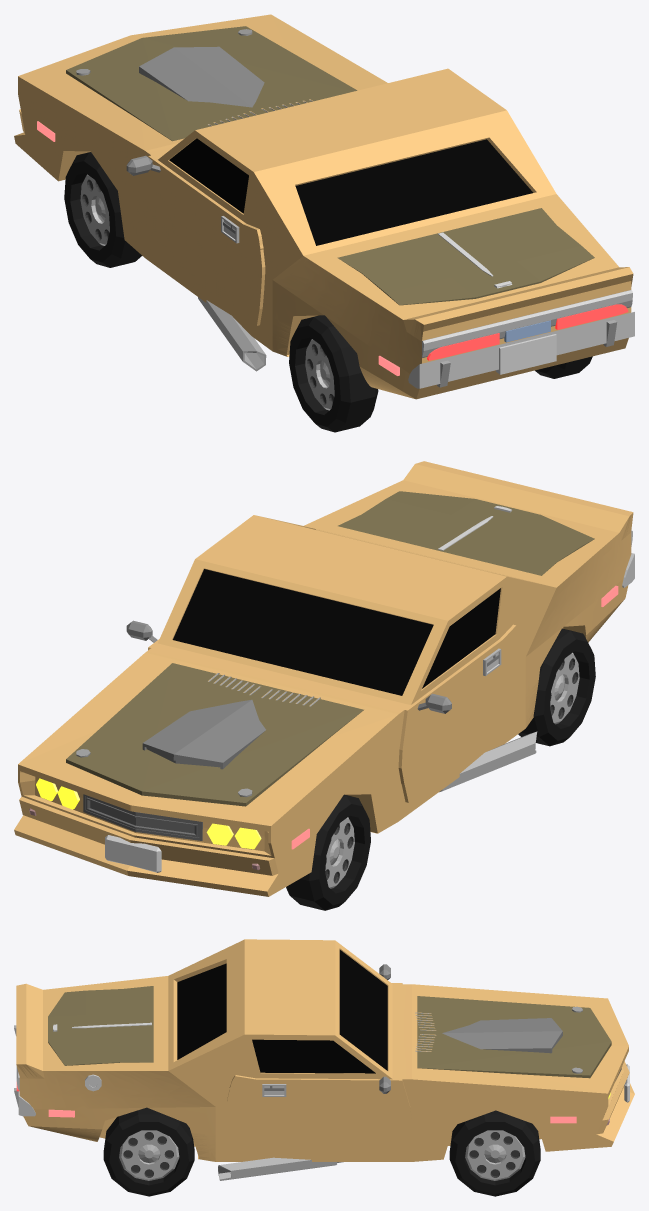
Rendered from CAR 1.fbx.
The picture shows the model from 3 angles, top to bottom: view 1: azimuth 30°, elevation 25°; view 2: azimuth 150°, elevation 25°; view 3: azimuth 270°, elevation 25°; orthographic projection. The views are drawn at different scales.
Visible parts, largest first — view 1: Cube_1_3, Cube_7_4, Cube_1, Cylinder_2_2, Cube_2_4, Cube_3_3, Cylinder_5, Cube_5_3, Cube_5_4, Cube_6_3, Cylinder_2_4, Cylinder_4_2 (+3 smaller); view 2: Cube_1_3, Cube_1, Cube_7_4, Cube_2_4, Cylinder_5, Cylinder_2_2, Cube_3_5, Cylinder_2_4, plate, Cylinder_4_2, Cylinder, Cylinder_3_2 (+4 smaller); view 3: Cube_1_3, Cube_1, Cube_7_4, Cylinder_2_2, Cylinder_5, Cube_2_4, Cylinder_4_2, Cylinder, Cylinder_2_4.
Part boxes in pixels (x1,y1,x2,y2): Cube_1_3: (14,14,633,399); Cube_7_4: (337,208,594,305); Cube_1: (66,26,357,141); Cylinder_2_2: (289,315,592,432); Cube_2_4: (139,46,265,114); Cube_3_3: (408,312,634,388); Cylinder_5: (64,152,141,267); Cube_5_3: (422,290,632,357); Cube_5_4: (427,304,628,360); Cube_6_3: (495,334,556,374); Cylinder_2_4: (198,297,266,371); Cylinder_4_2: (80,174,109,245); Cube_1_3: (14,461,633,896); Cube_1: (66,663,363,806); Cube_7_4: (338,491,594,575); Cube_2_4: (142,693,267,769); Cylinder_5: (286,794,370,910); Cylinder_2_2: (518,628,595,746); Cube_3_5: (83,794,202,840); Cylinder_2_4: (439,731,537,792); plate: (105,835,161,872); Cylinder_4_2: (325,817,354,888); Cylinder: (550,652,579,724); Cylinder_3_2: (555,651,589,728); Cube_1_3: (16,939,634,1161); Cube_1: (417,996,611,1078); Cube_7_4: (48,986,153,1065); Cylinder_2_2: (103,1107,194,1196); Cylinder_5: (449,1110,540,1196); Cube_2_4: (442,1018,562,1053); Cylinder_4_2: (465,1130,525,1180); Cylinder: (119,1130,179,1180); Cylinder_2_4: (218,1157,343,1180).
Bounding box in the file's own units: 256 × 160 × 552.
